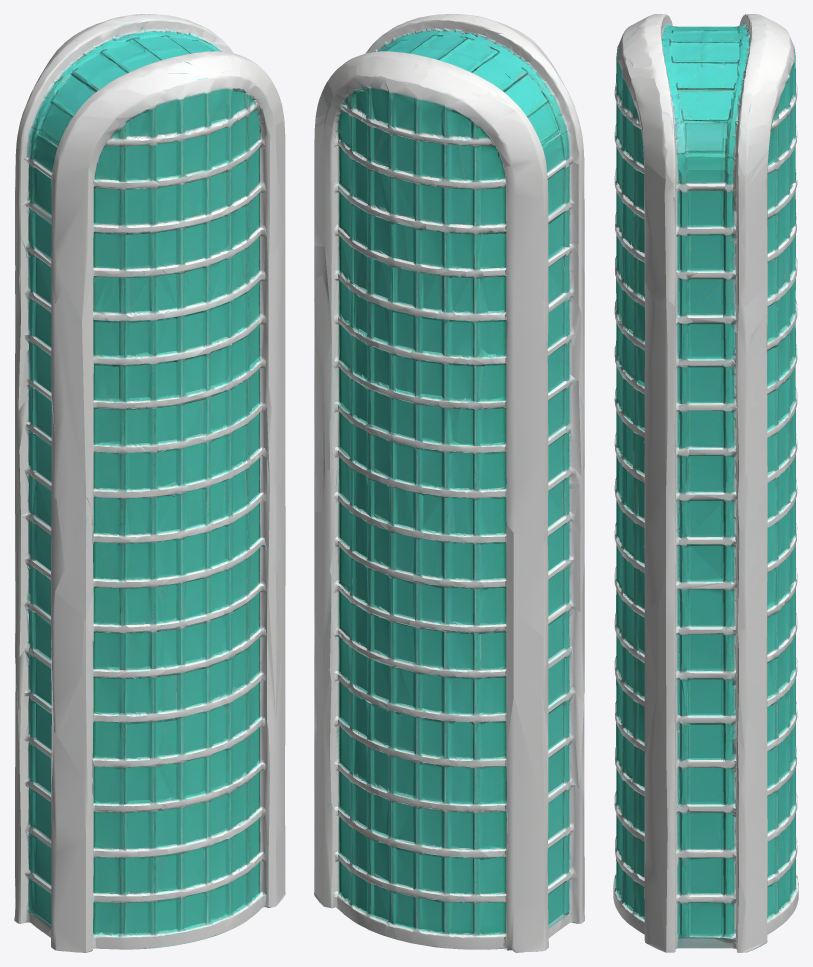
The model's file is tower1.glb.
3 views of the same model, side by side, from view 1: azimuth 30°, elevation 25°; view 2: azimuth 150°, elevation 25°; view 3: azimuth 270°, elevation 25° (orthographic).
Size of the model in its own units: 0.5304 by 1.9 by 0.3682.
1 material, 1 textured.
